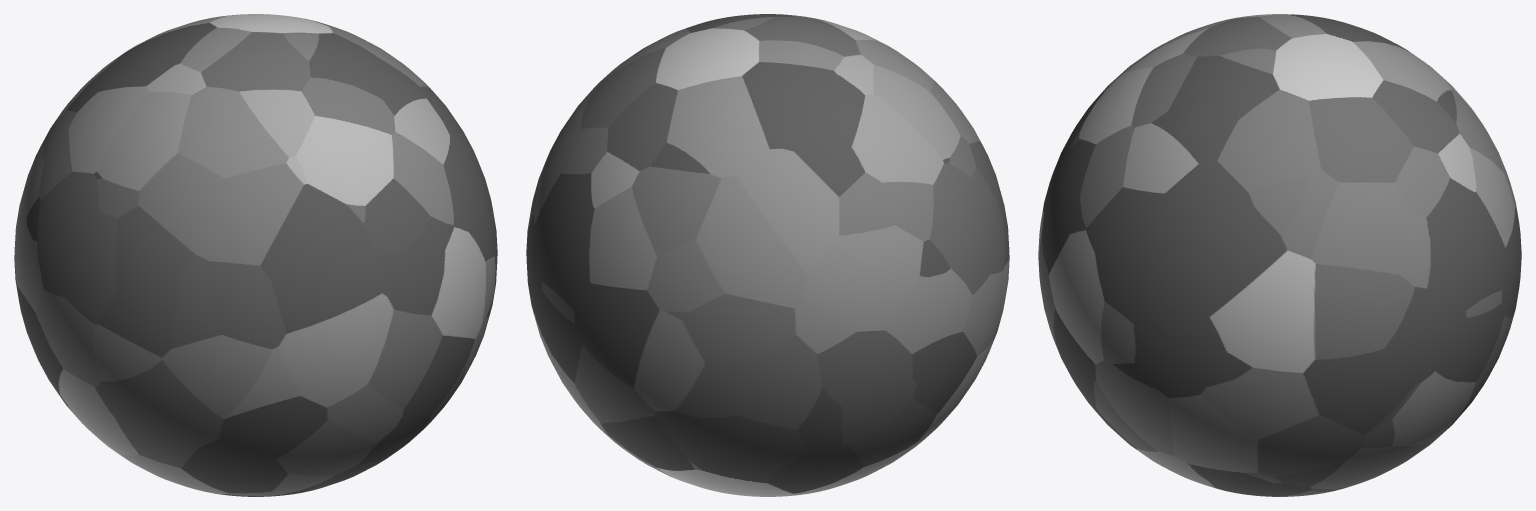
The model's file is ComeSphere.glb.
The picture shows the model from 3 angles, left to right: view 1: azimuth 30°, elevation 25°; view 2: azimuth 150°, elevation 25°; view 3: azimuth 270°, elevation 25°; orthographic projection.
Parts seen in each view (by area): view 1: 球体; view 2: 球体; view 3: 球体.
Boxes of the visible parts, left/top/right/bottom form: 球体: left=14, top=14, right=497, bottom=496; 球体: left=526, top=14, right=1009, bottom=496; 球体: left=1038, top=14, right=1521, bottom=496.
Size of the model in its own units: 1.98 by 1.98 by 1.98.
Materials: 1 (1 with a texture image).
